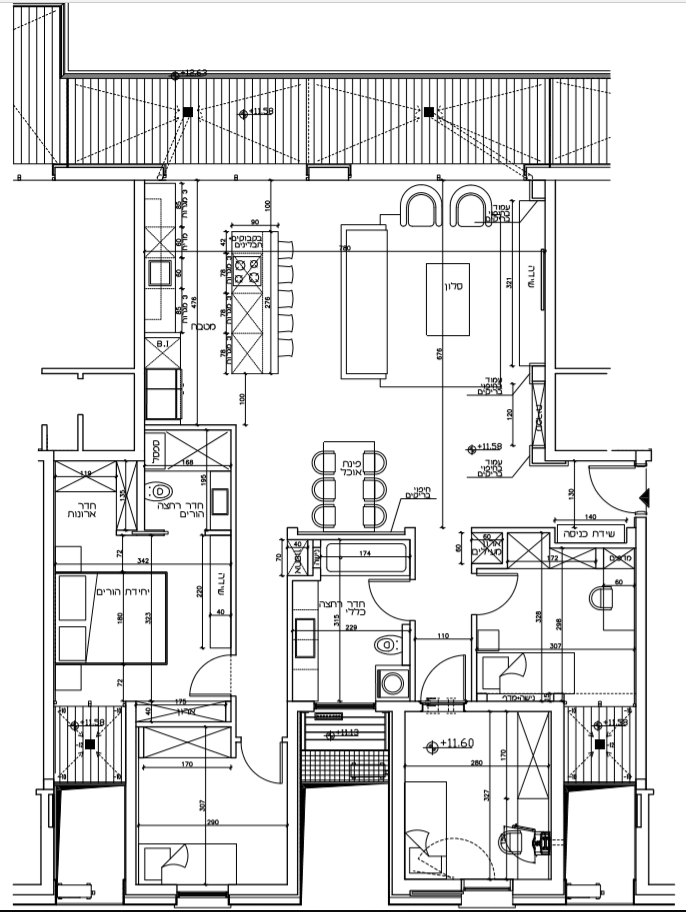door: (585, 463, 653, 514), (190, 650, 244, 714), (237, 729, 287, 789), (425, 650, 472, 713), (471, 565, 524, 611), (368, 578, 415, 624)
room: (329, 185, 542, 517), (61, 470, 232, 695), (146, 182, 310, 413), (476, 538, 635, 702), (415, 713, 546, 878), (140, 732, 285, 881), (303, 547, 411, 700)
wall: (126, 186, 147, 460), (357, 160, 522, 185), (542, 178, 556, 464), (121, 707, 140, 904), (42, 457, 53, 784), (390, 710, 408, 899), (636, 524, 649, 785), (226, 428, 239, 657), (37, 790, 60, 903), (286, 713, 299, 903), (171, 163, 307, 179), (556, 447, 646, 460), (144, 421, 237, 432), (287, 531, 412, 539), (42, 452, 136, 461), (233, 893, 296, 906), (135, 890, 179, 900)
window: (51, 160, 171, 186), (301, 160, 361, 182), (185, 890, 232, 912), (44, 796, 57, 832), (635, 800, 647, 829)
